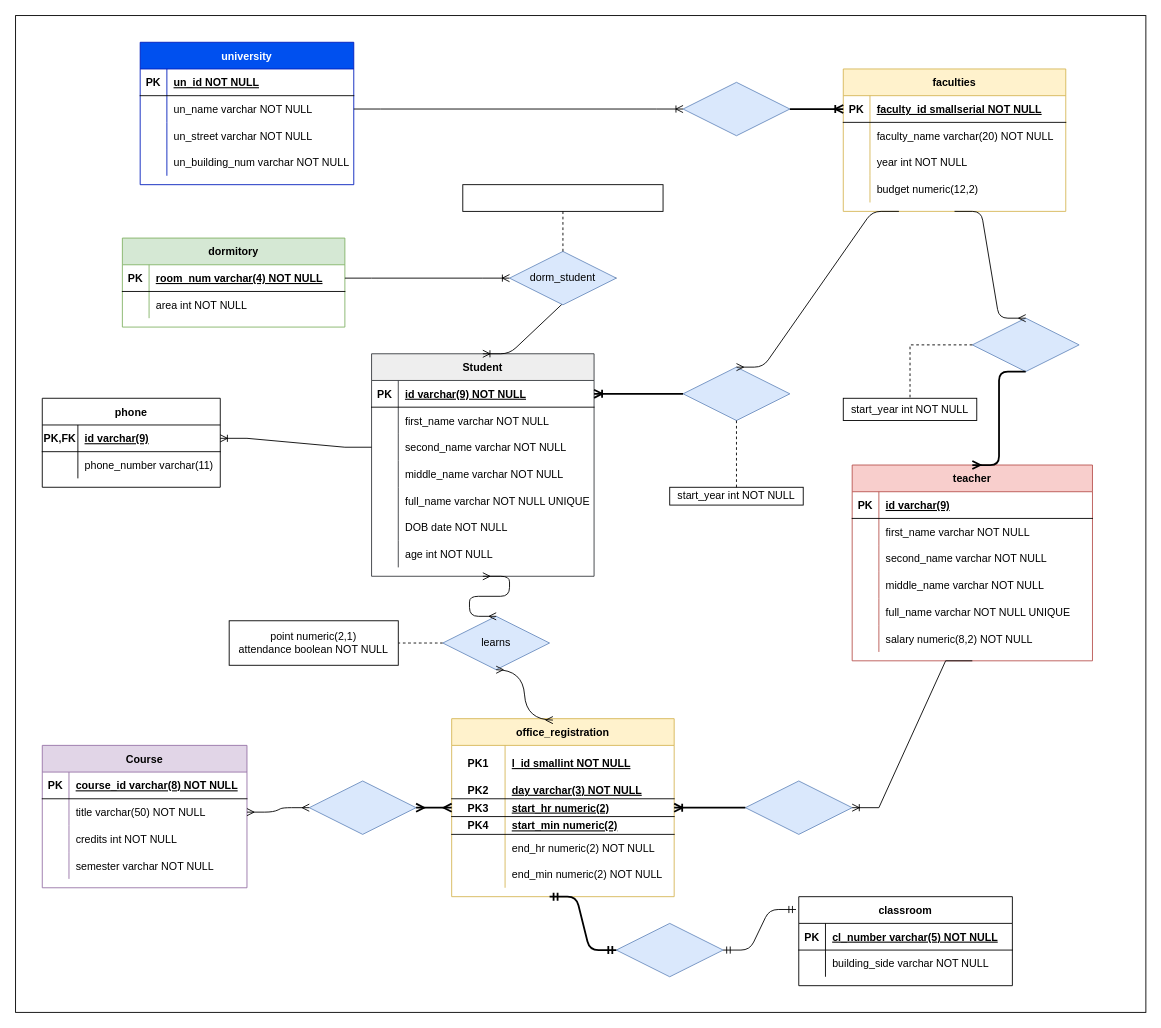
The diagram is 1161 pixels wide and 1028 high, and some of its shapes have lost their labels. The centre of each missing label's shape, as x and y in pixels:
num_of_students smallint NOT NULL: pixel 562 197
schedules: pixel 362 807
studies: pixel 736 393
supports: pixel 736 108
takes place: pixel 669 949
teaches: pixel 798 807
works: pixel 1025 344
